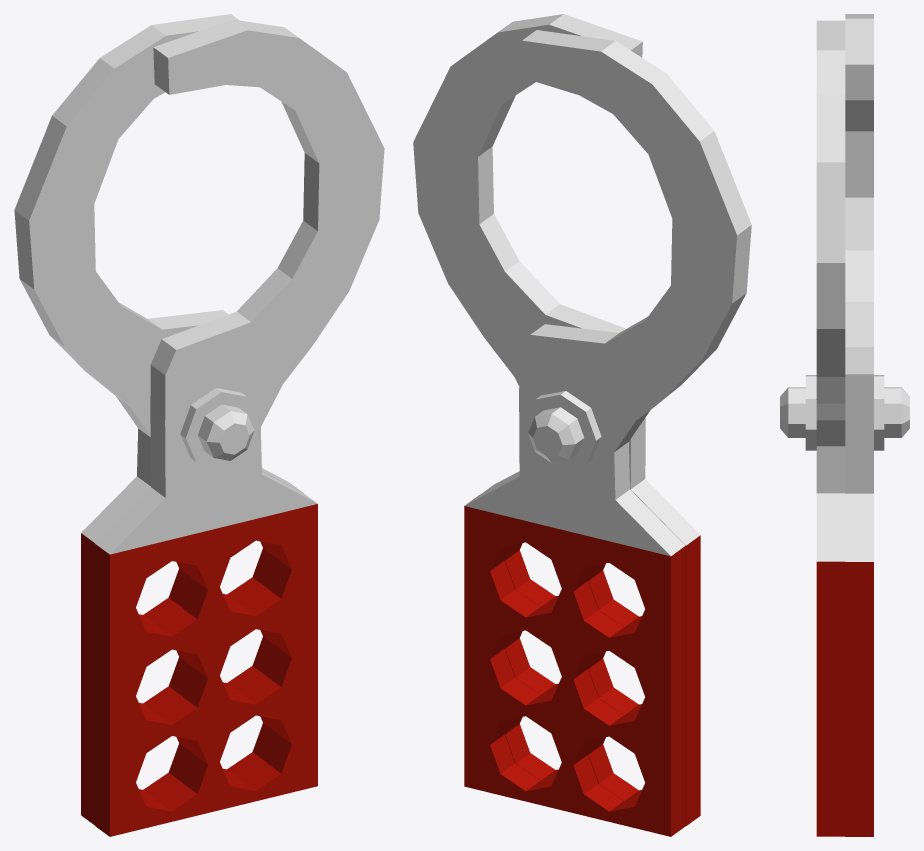
File: Cadeado Coletivo.fbx
The picture shows the model from 3 angles, left to right: view 1: azimuth 30°, elevation 25°; view 2: azimuth 150°, elevation 25°; view 3: azimuth 270°, elevation 25°; orthographic projection. The views are drawn at different scales.
Visible parts, largest first — view 1: Cadeado Seg 01, Cadeado Seg 02, Parafuso; view 2: Cadeado Seg 02, Cadeado Seg 01, Parafuso; view 3: Cadeado Seg 01, Cadeado Seg 02, Parafuso.
Boxes of the visible parts, box(x1,y1,x2,y2) form: Cadeado Seg 01: box(95, 19, 384, 836); Cadeado Seg 02: box(14, 14, 303, 825); Parafuso: box(180, 388, 257, 466); Cadeado Seg 02: box(464, 30, 751, 836); Cadeado Seg 01: box(413, 14, 700, 825); Parafuso: box(525, 391, 601, 469); Cadeado Seg 01: box(816, 20, 845, 836); Cadeado Seg 02: box(845, 14, 873, 836); Parafuso: box(780, 375, 909, 450).
Size of the model in its own units: 19.32 by 41.9 by 6.54.
